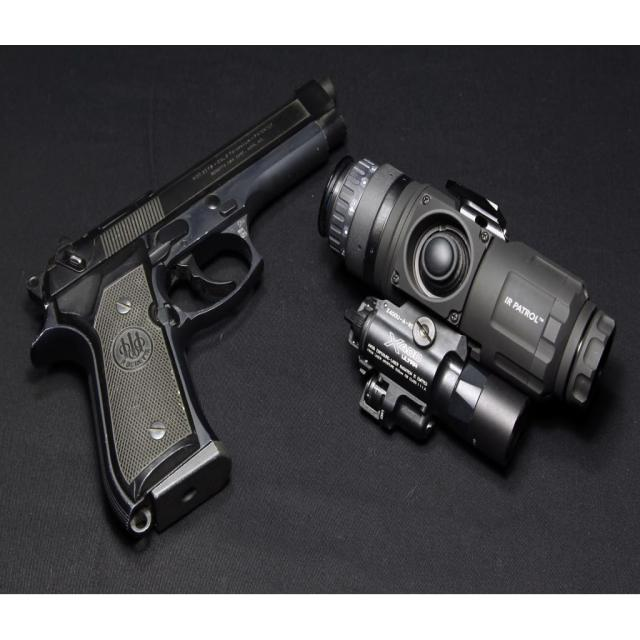HandGun: (25, 83, 347, 548)
